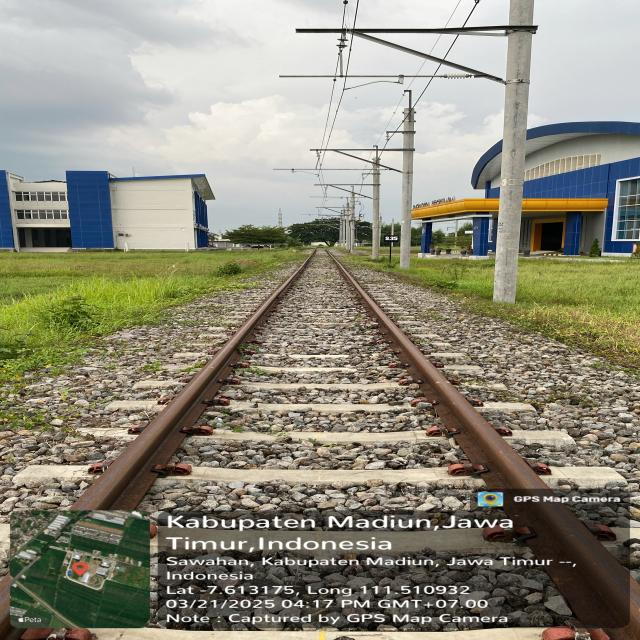rail-detection: (325, 248, 640, 638), (71, 248, 316, 510)
